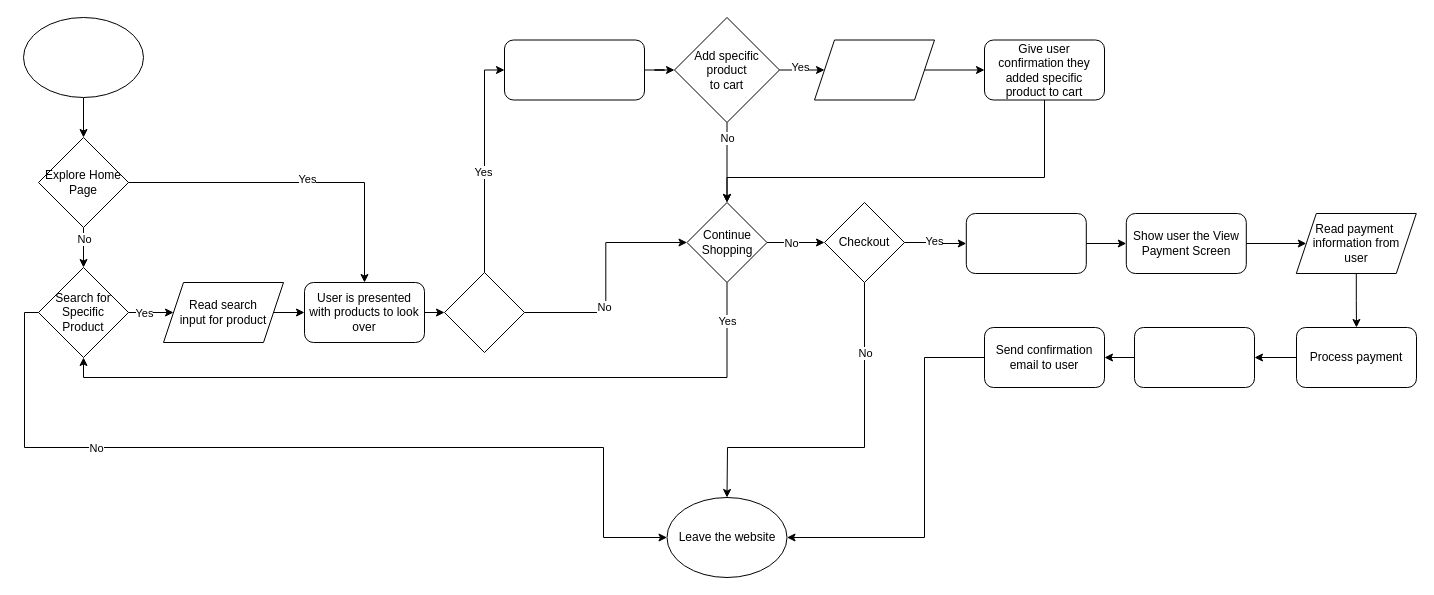
The diagram is 1434 pixels wide and 595 high, and some of its shapes have lost their labels. The shapes that lost their labels are listed below. From the top down, each one's box as (x1, y1, x2, y2) in pixels, then its label:
(22, 16, 144, 98): User enters website
(504, 39, 644, 100): Show specific product's webpage to user
(814, 39, 934, 100): Product added to cart
(965, 212, 1086, 274): Show user the View Cart Screen
(444, 272, 524, 352): View a specific product
(1134, 326, 1254, 388): Show order confirmation screen
